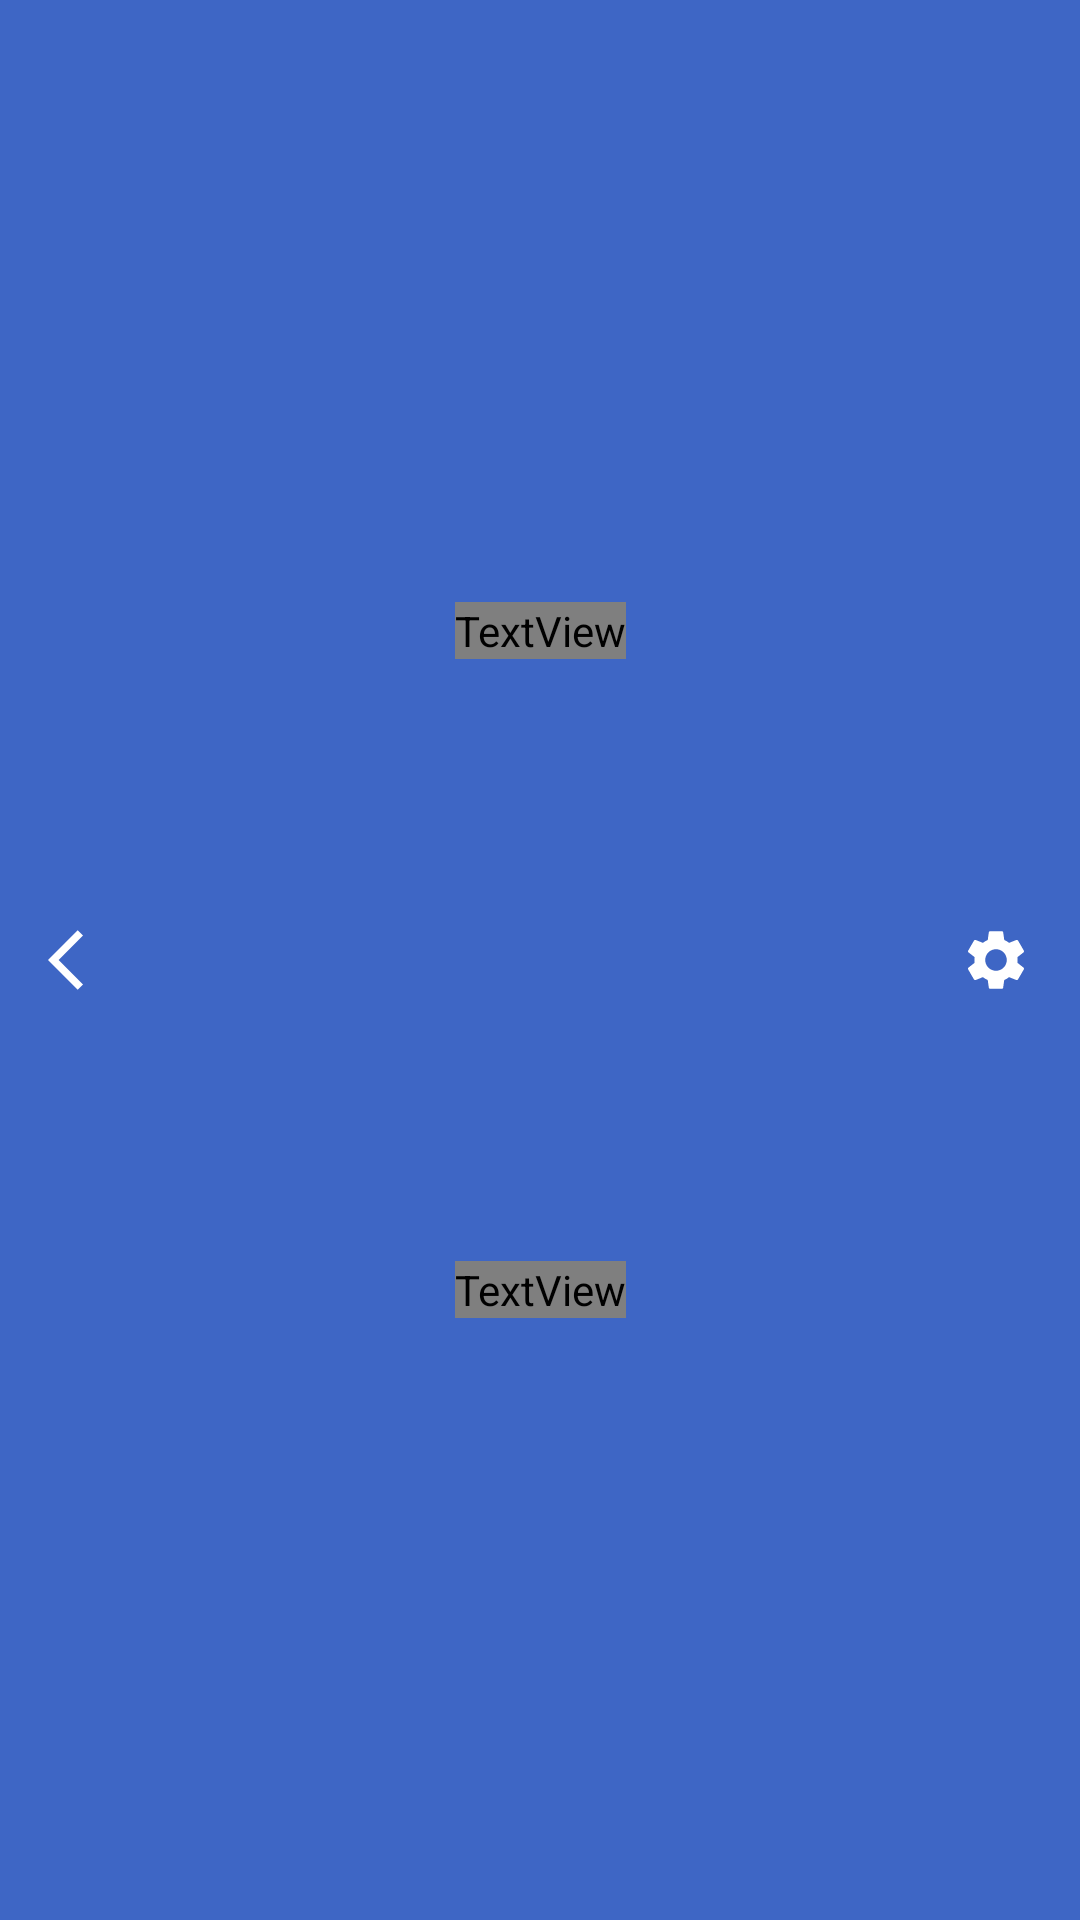

Screen size 1080*1920. Icon name, then its box in pixels as [x1,y1,x2,y2]:
back: [48,930,83,990]
settings: [968,931,1024,989]
